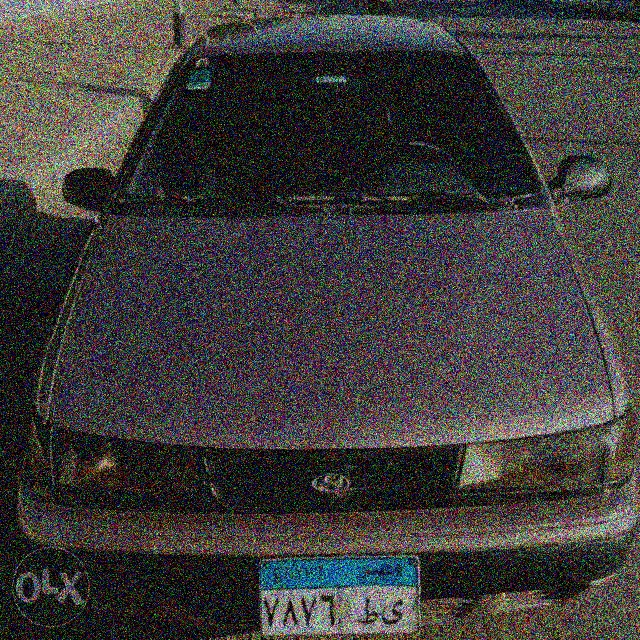License Plate: (256, 554, 422, 638)
